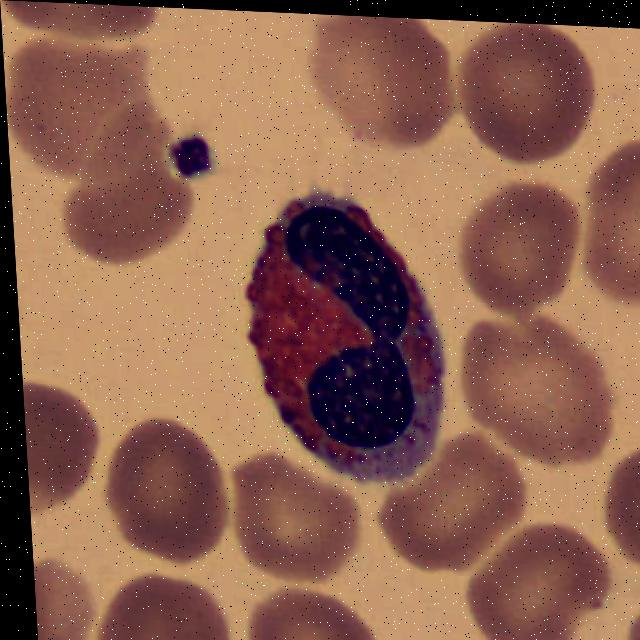eosinophil: (241, 174, 454, 486)
platelets: (168, 132, 220, 189)
rbc: (459, 311, 629, 483), (442, 20, 611, 179), (373, 433, 544, 576), (300, 13, 464, 159), (63, 100, 202, 266), (100, 407, 234, 573), (2, 31, 155, 167), (464, 516, 620, 640), (456, 179, 586, 322), (233, 453, 369, 587), (22, 367, 103, 511), (577, 134, 640, 311), (93, 565, 234, 640), (237, 576, 396, 640), (0, 0, 191, 50), (593, 434, 640, 589), (33, 546, 102, 640), (625, 581, 640, 640)
